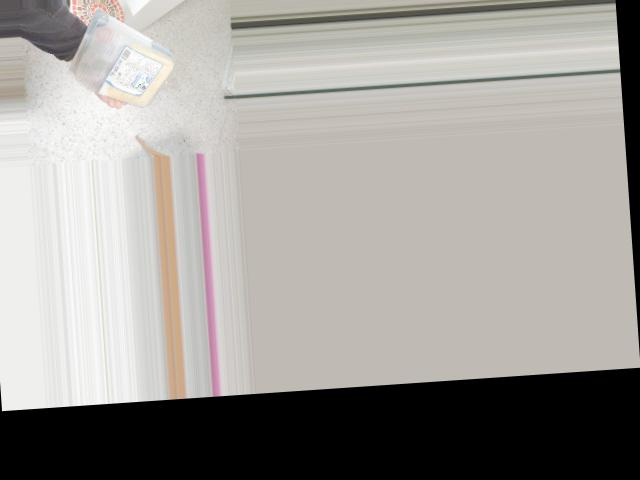cheese: (76, 19, 175, 110)
